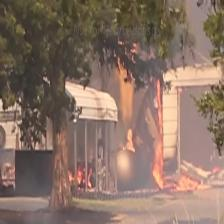fire: (123, 51, 200, 203)
